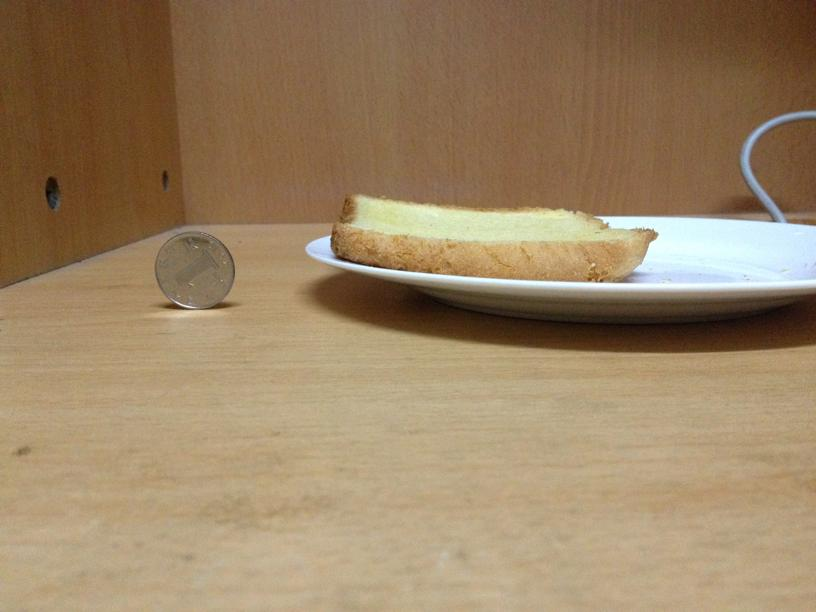bread: (335, 192, 652, 281)
coin: (153, 231, 235, 310)
